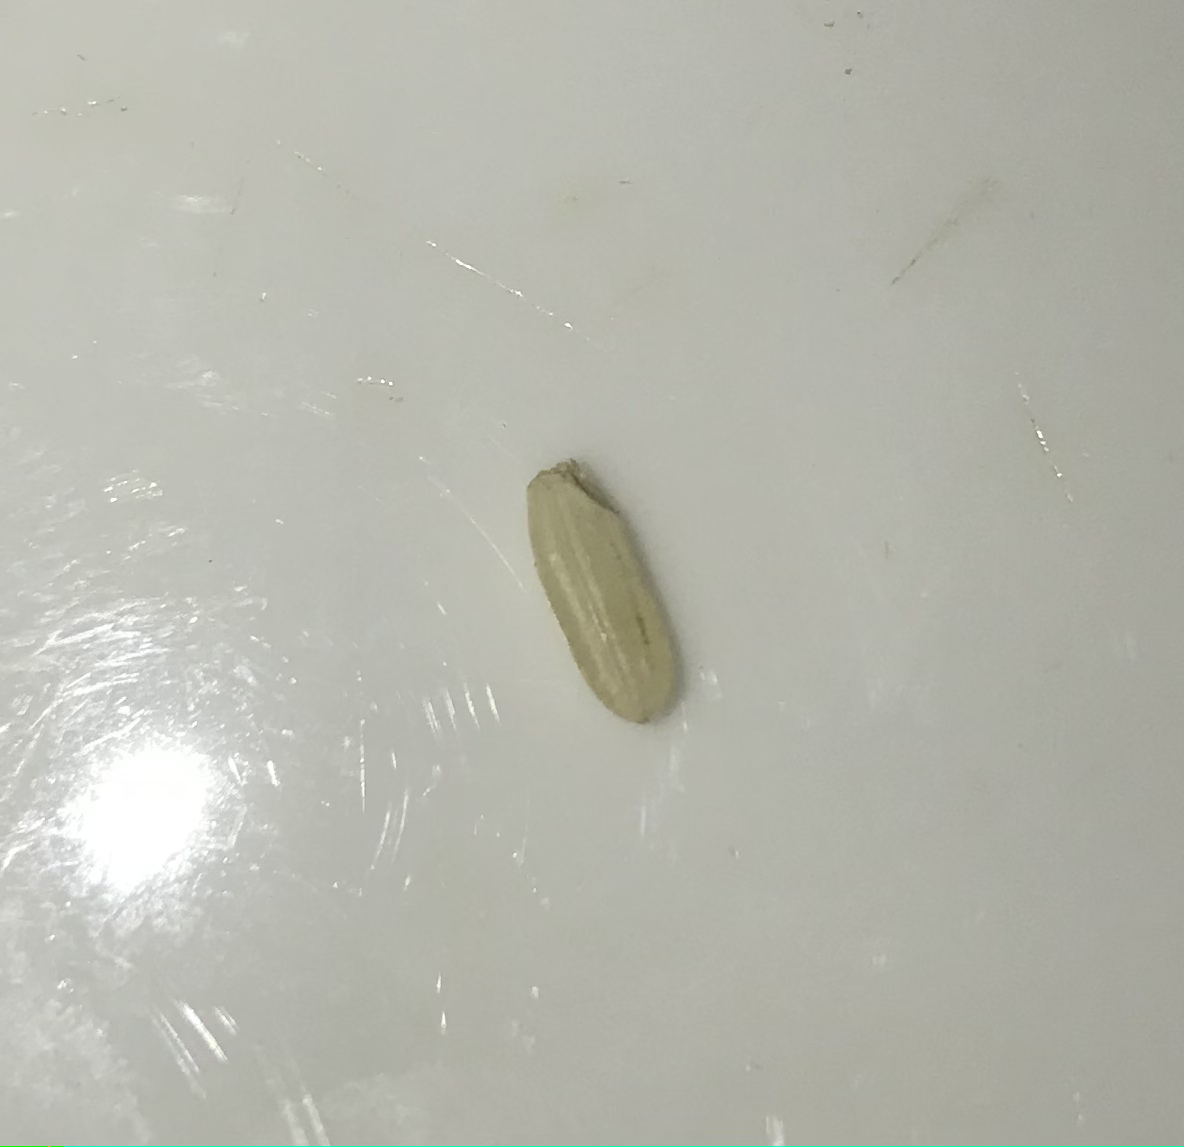Gao Lut Trang: (508, 437, 707, 734)
